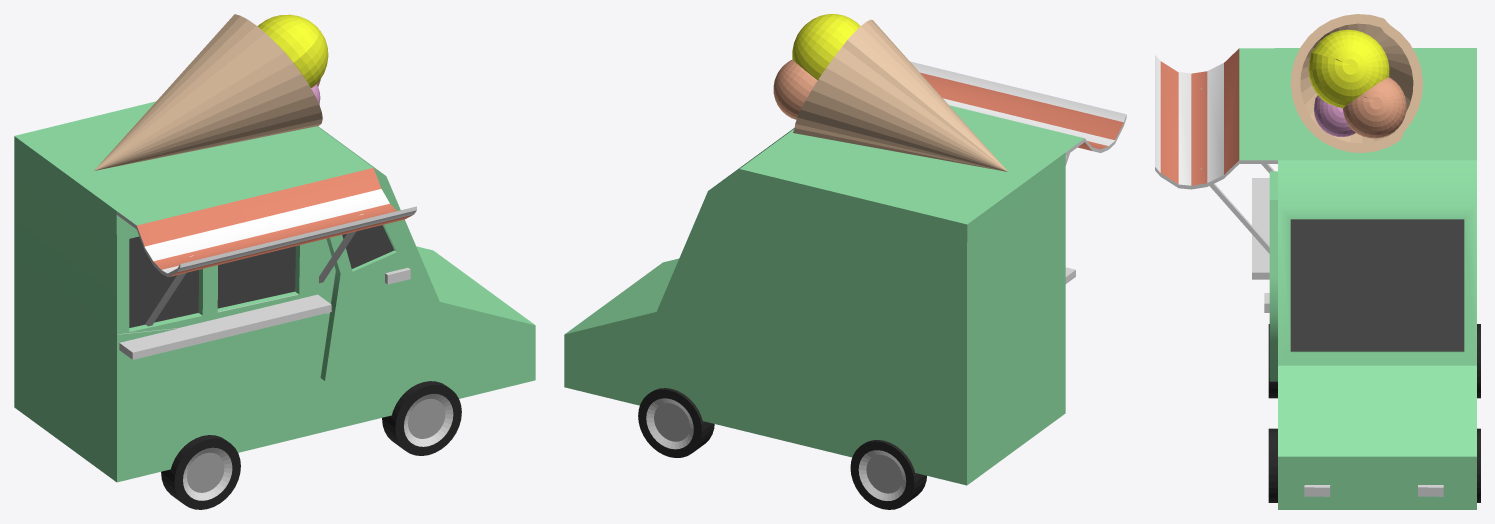
Rendered from zcar_icecream.fbx.
The picture shows the model from 3 angles, left to right: view 1: azimuth 30°, elevation 25°; view 2: azimuth 150°, elevation 25°; view 3: azimuth 270°, elevation 25°; orthographic projection. The views are drawn at different scales.
Visible parts, largest first — view 1: Cube.001, Sphere.001, Cube.005, Circle.001, Circle; view 2: Cube.001, Sphere.001, Circle.003, Circle.002; view 3: Cube.001, Sphere.001, Cube.005, Circle.001, Cube.003.
Part boxes in pixels (left/top/right/bottom): Cube.001: left=14, top=101, right=535, bottom=482; Sphere.001: left=94, top=14, right=328, bottom=170; Cube.005: left=119, top=294, right=331, bottom=359; Circle.001: left=382, top=381, right=461, bottom=455; Circle: left=161, top=435, right=240, bottom=509; Cube.001: left=564, top=61, right=1126, bottom=485; Sphere.001: left=773, top=14, right=1007, bottom=171; Circle.003: left=638, top=388, right=714, bottom=457; Circle.002: left=850, top=440, right=926, bottom=509; Cube.001: left=1155, top=48, right=1476, bottom=509; Sphere.001: left=1290, top=14, right=1422, bottom=152; Cube.005: left=1252, top=178, right=1269, bottom=279; Circle.001: left=1268, top=428, right=1277, bottom=502; Cube.003: left=1200, top=168, right=1269, bottom=253.
Bounding box in the file's own units: 479 × 468 × 328.
